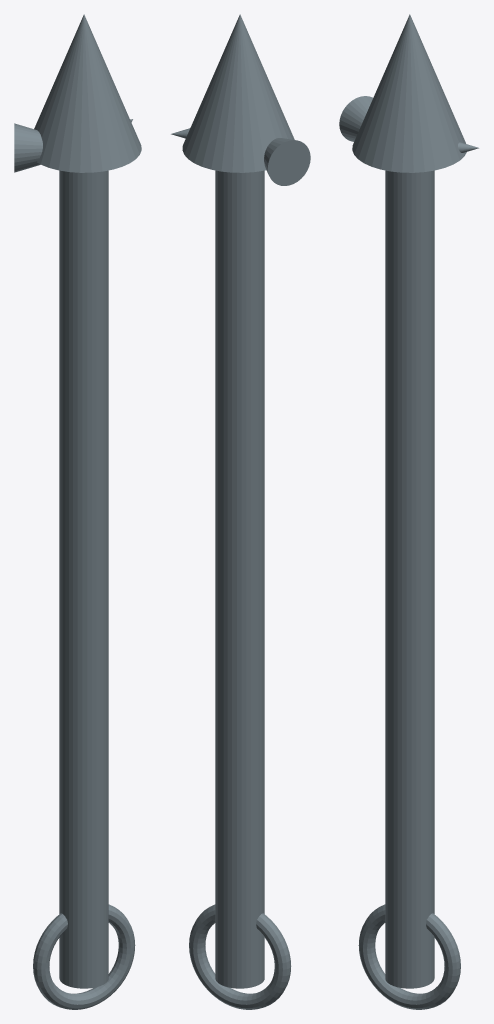
File: harpoon.glb
The picture shows the model from 3 angles, left to right: view 1: azimuth 30°, elevation 25°; view 2: azimuth 150°, elevation 25°; view 3: azimuth 330°, elevation 25°; orthographic projection.
Visible parts, largest first — view 1: Harpoon_Shaft.001, Harpoon_Tip.001, Harpoon_Ring.001, Harpoon_Barb_-1.001; view 2: Harpoon_Shaft.001, Harpoon_Tip.001, Harpoon_Ring.001, Harpoon_Barb_-1.001; view 3: Harpoon_Shaft.001, Harpoon_Tip.001, Harpoon_Ring.001, Harpoon_Barb_-1.001.
Part boxes in pixels (box(x1,y1,x2,y2)): Harpoon_Shaft.001: box(59, 170, 108, 988); Harpoon_Tip.001: box(34, 14, 141, 172); Harpoon_Ring.001: box(33, 904, 135, 1009); Harpoon_Barb_-1.001: box(14, 123, 42, 172); Harpoon_Shaft.001: box(215, 170, 264, 988); Harpoon_Tip.001: box(182, 14, 294, 172); Harpoon_Ring.001: box(189, 904, 291, 1009); Harpoon_Barb_-1.001: box(264, 138, 310, 185); Harpoon_Shaft.001: box(385, 170, 434, 988); Harpoon_Tip.001: box(352, 14, 466, 172); Harpoon_Ring.001: box(358, 904, 460, 1009); Harpoon_Barb_-1.001: box(339, 96, 372, 141).
Size of the model in its own units: 0.1816 by 1.33 by 0.14.
